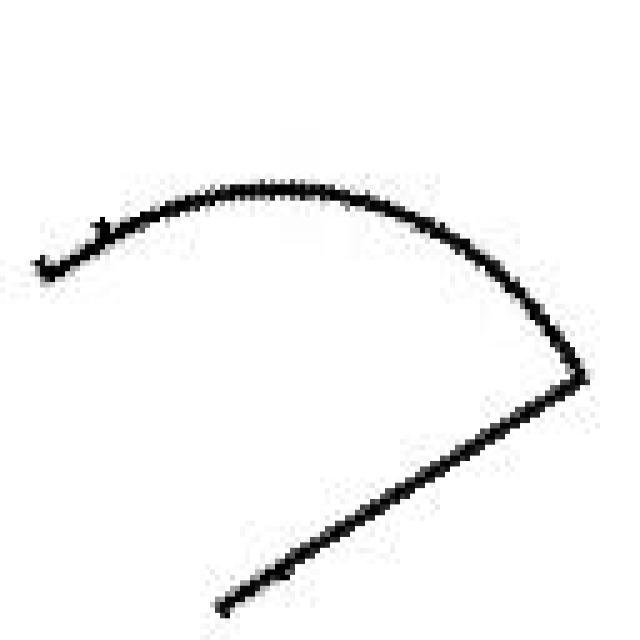door: (30, 157, 580, 613)
